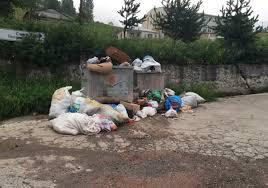Container: (88, 66, 133, 101), (134, 72, 164, 90)
Garbage: (88, 52, 168, 72), (51, 114, 109, 140), (44, 84, 71, 116), (99, 101, 127, 126), (134, 54, 164, 71), (72, 88, 88, 112), (184, 91, 203, 108), (141, 55, 160, 71), (165, 92, 179, 108), (139, 103, 156, 115), (168, 109, 179, 121), (87, 57, 100, 63)
